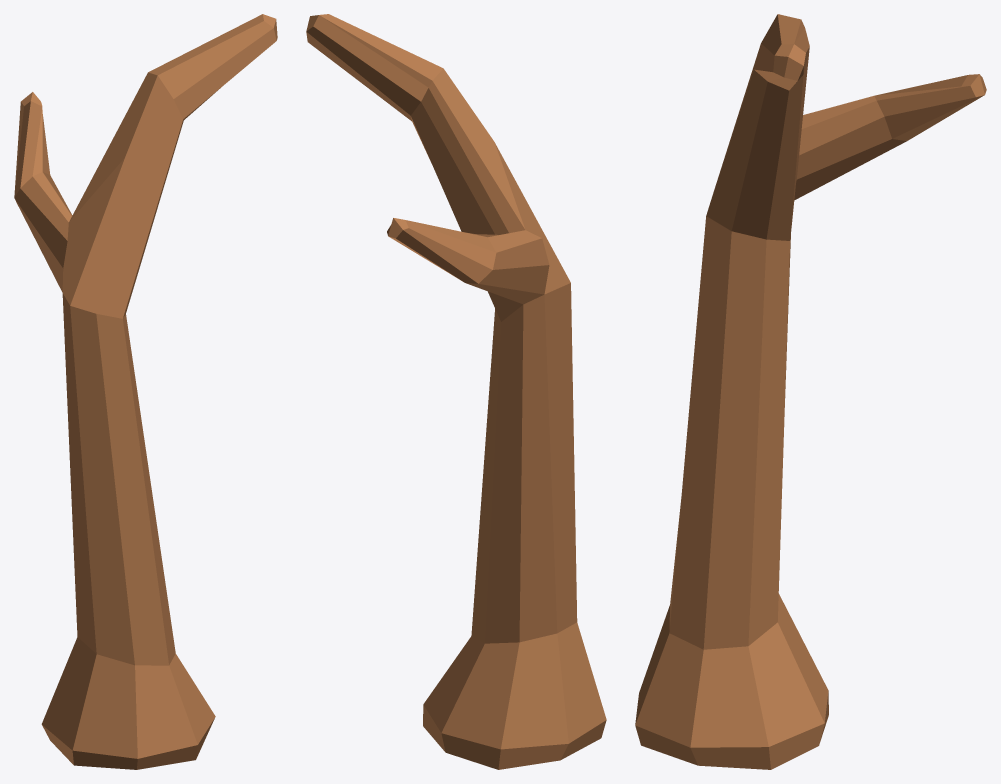
The model's file is Tree12Rot.fbx.
3 views of the same model, side by side, from view 1: azimuth 30°, elevation 25°; view 2: azimuth 150°, elevation 25°; view 3: azimuth 270°, elevation 25° (orthographic). The views are drawn at different scales.
Visible parts, largest first — view 1: Tree12Rot; view 2: Tree12Rot; view 3: Tree12Rot.
Part boxes in pixels (x1,y1,x2,y2): Tree12Rot: (14, 14, 277, 769); Tree12Rot: (306, 14, 606, 769); Tree12Rot: (635, 14, 986, 769).
Bounding box in the file's own units: 138 × 361 × 148.
